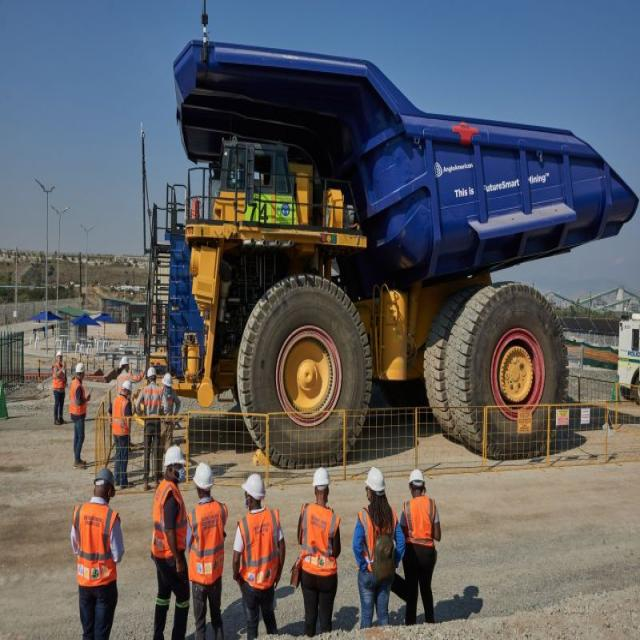dump_truck: (137, 21, 639, 539)
